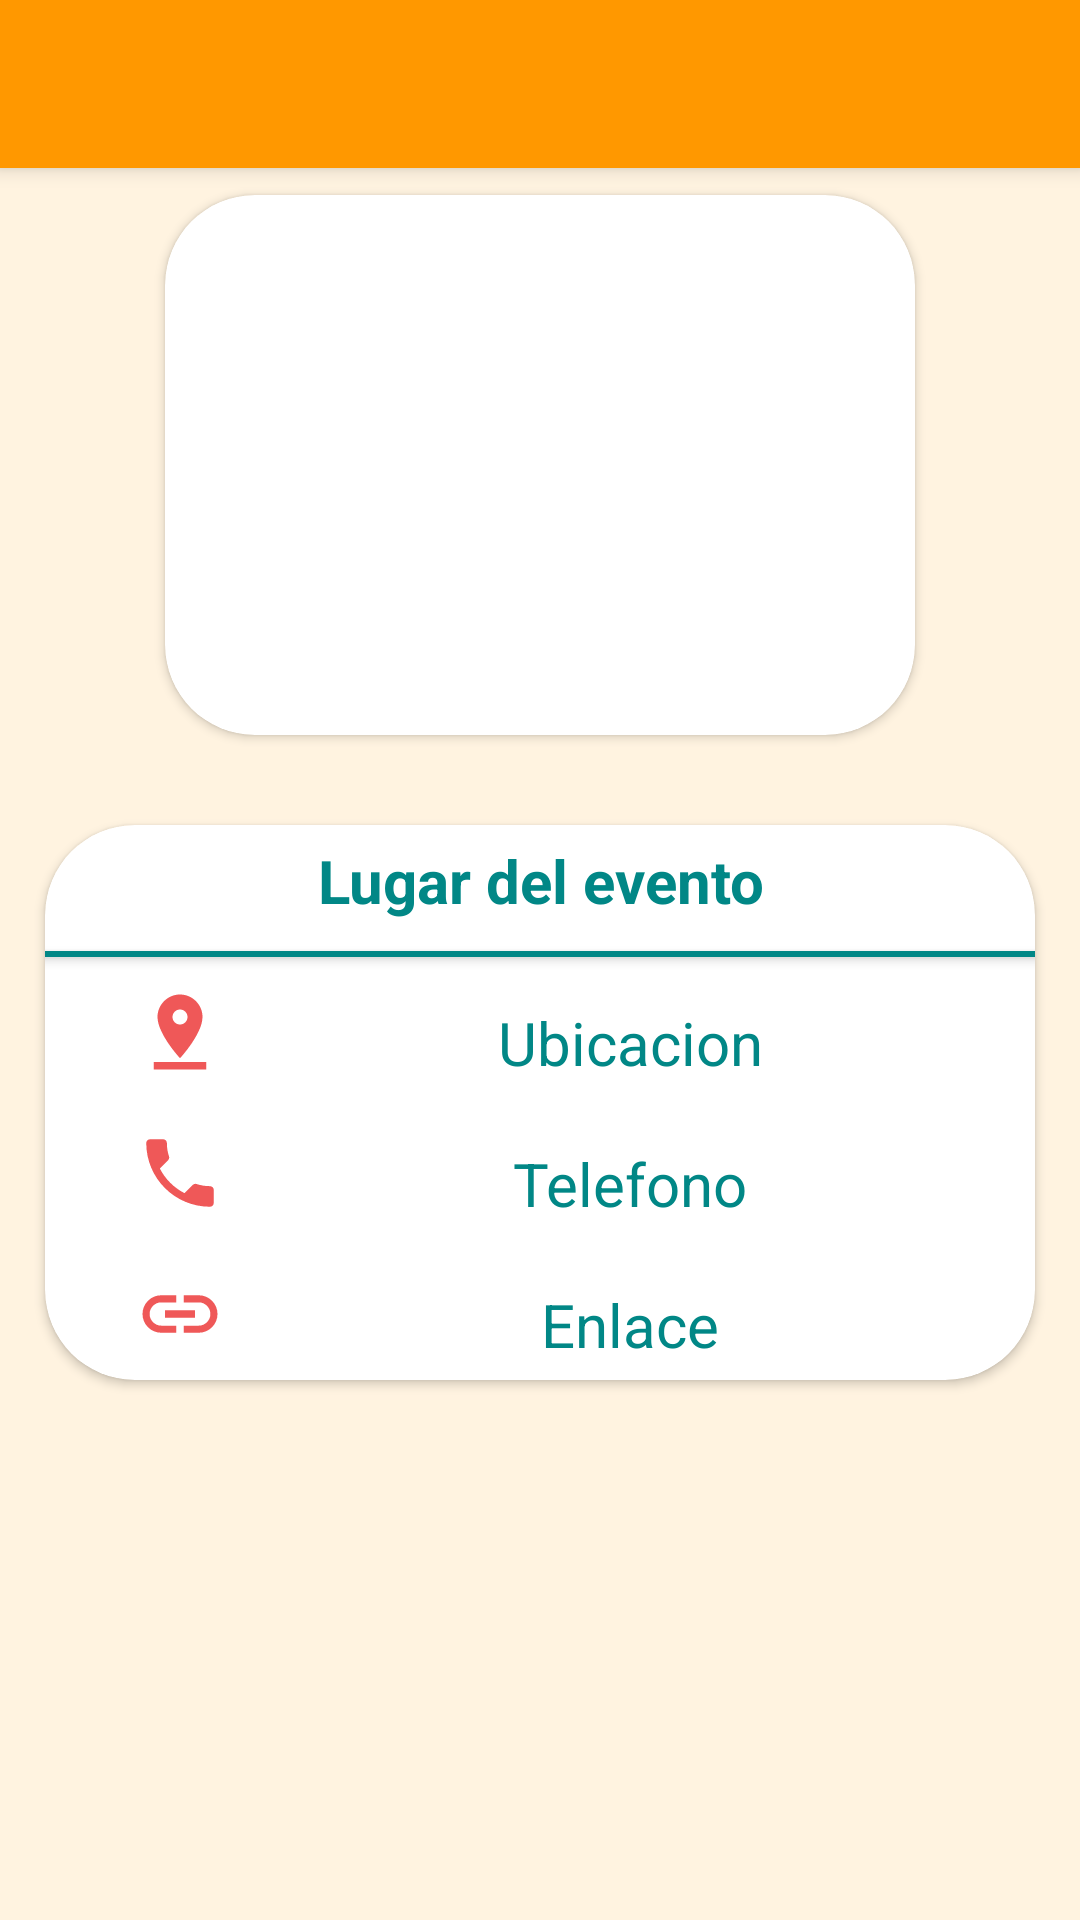

Where to tap for icons on this 1080px x 1920px app screen, as (x=x, y=y):
link: (x=180, y=1314)
phone: (x=180, y=1173)
pin drop: (x=180, y=1032)
